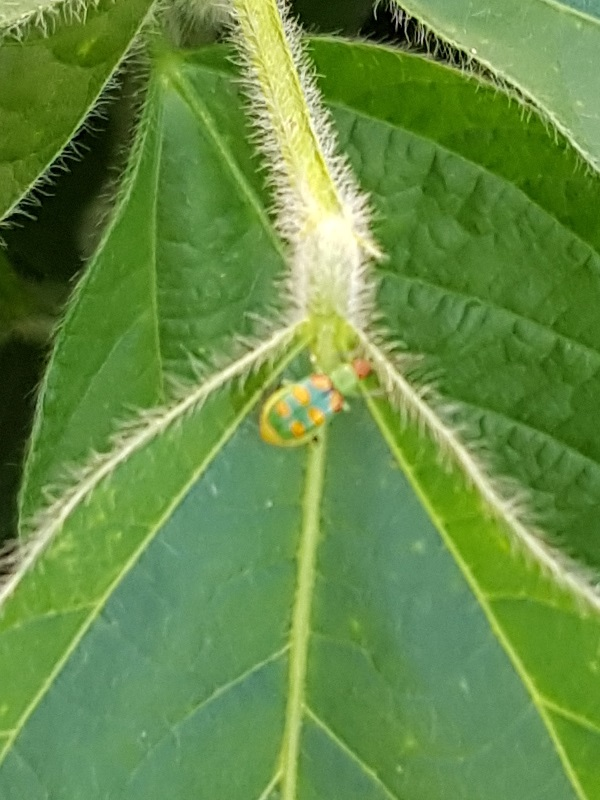Diabrotica_speciosa: (237, 325, 404, 481)
